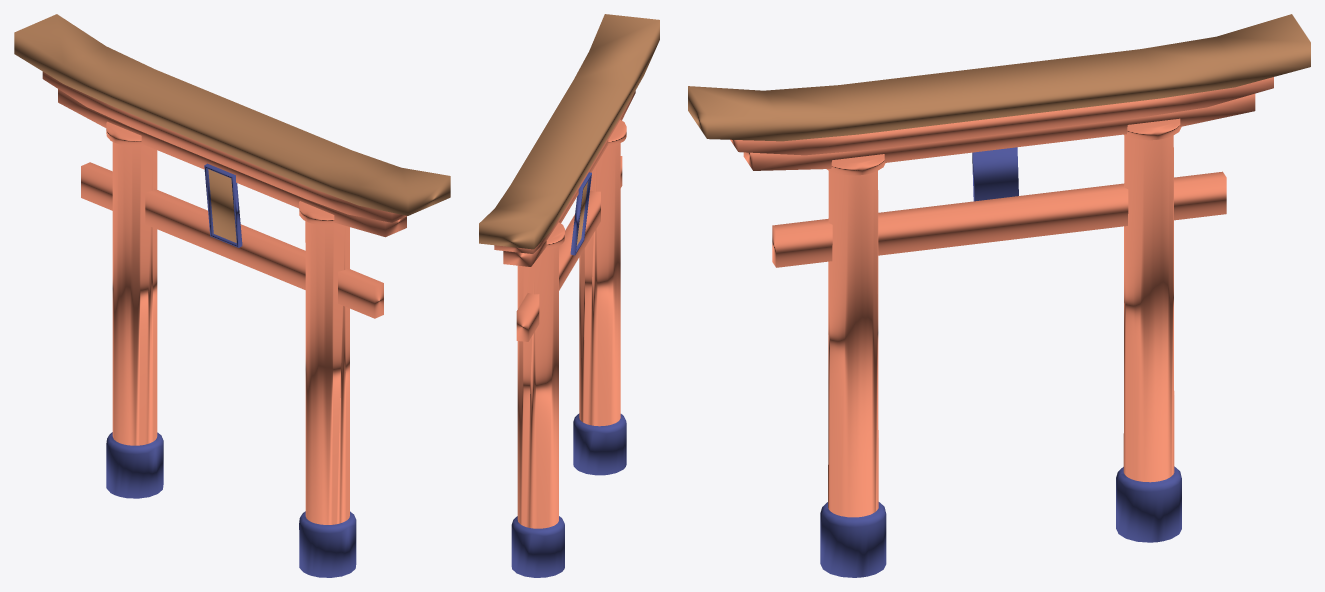
3 renders of one model, left to right at view 1: azimuth 30°, elevation 25°; view 2: azimuth 150°, elevation 25°; view 3: azimuth 270°, elevation 25°, orthographic. The views are drawn at different scales.
Visible parts, largest first — view 1: 立方体006, 立方体006_1, 立方体006_3, 立方体006_2; view 2: 立方体006, 立方体006_1, 立方体006_3, 立方体006_2; view 3: 立方体006, 立方体006_1, 立方体006_3, 立方体006_2.
Boxes of the visible parts, <box> form: 立方体006: <box>42,72,406,524</box>; 立方体006_1: <box>14,14,450,242</box>; 立方体006_3: <box>106,432,356,577</box>; 立方体006_2: <box>204,163,242,247</box>; 立方体006: <box>494,91,635,528</box>; 立方体006_1: <box>479,14,659,249</box>; 立方体006_3: <box>511,413,626,577</box>; 立方体006_2: <box>570,172,591,255</box>; 立方体006: <box>730,77,1273,517</box>; 立方体006_1: <box>688,14,1310,141</box>; 立方体006_3: <box>820,466,1181,577</box>; 立方体006_2: <box>972,147,1018,201</box>.
Size of the model in its own units: 1.72 by 3.85 by 4.51.
